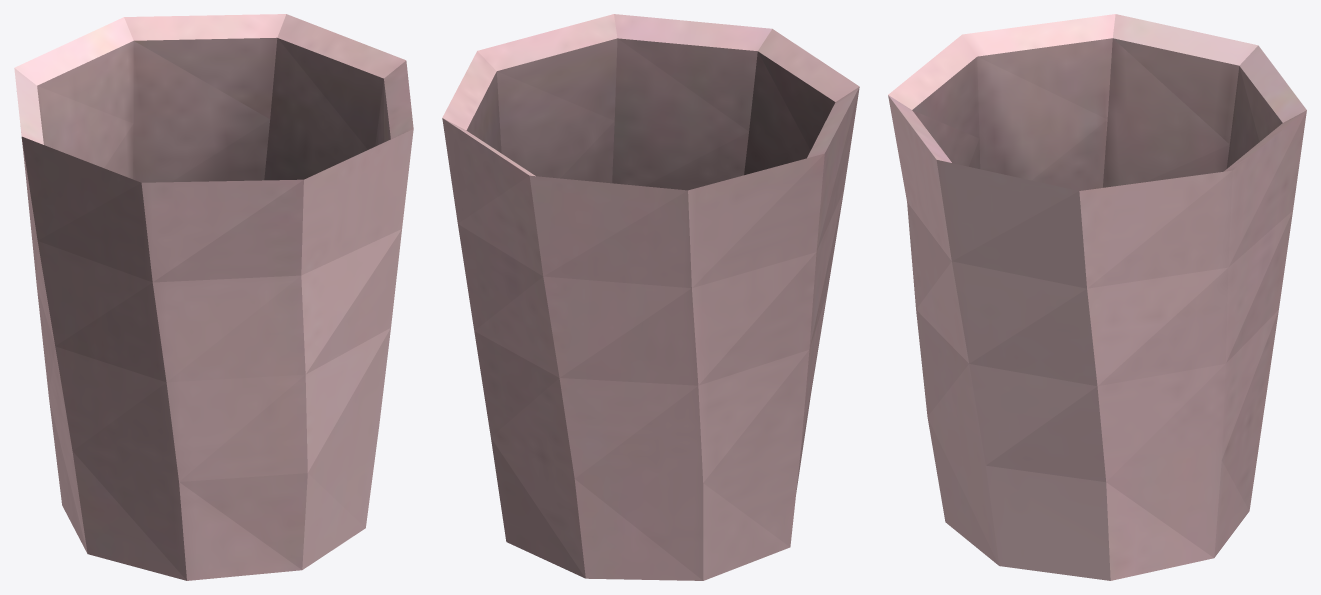
Rendered from Trash.fbx.
The picture shows the model from 3 angles, left to right: view 1: azimuth 30°, elevation 25°; view 2: azimuth 150°, elevation 25°; view 3: azimuth 270°, elevation 25°; orthographic projection.
Parts seen in each view (by area): view 1: Trash can; view 2: Trash can; view 3: Trash can.
Boxes of the visible parts, x1,y1,x2,y2 form: Trash can: (14, 14, 413, 580); Trash can: (442, 14, 859, 580); Trash can: (888, 14, 1306, 580).
Size of the model in its own units: 59.63 by 65.05 by 59.63.
1 material, 1 textured.
